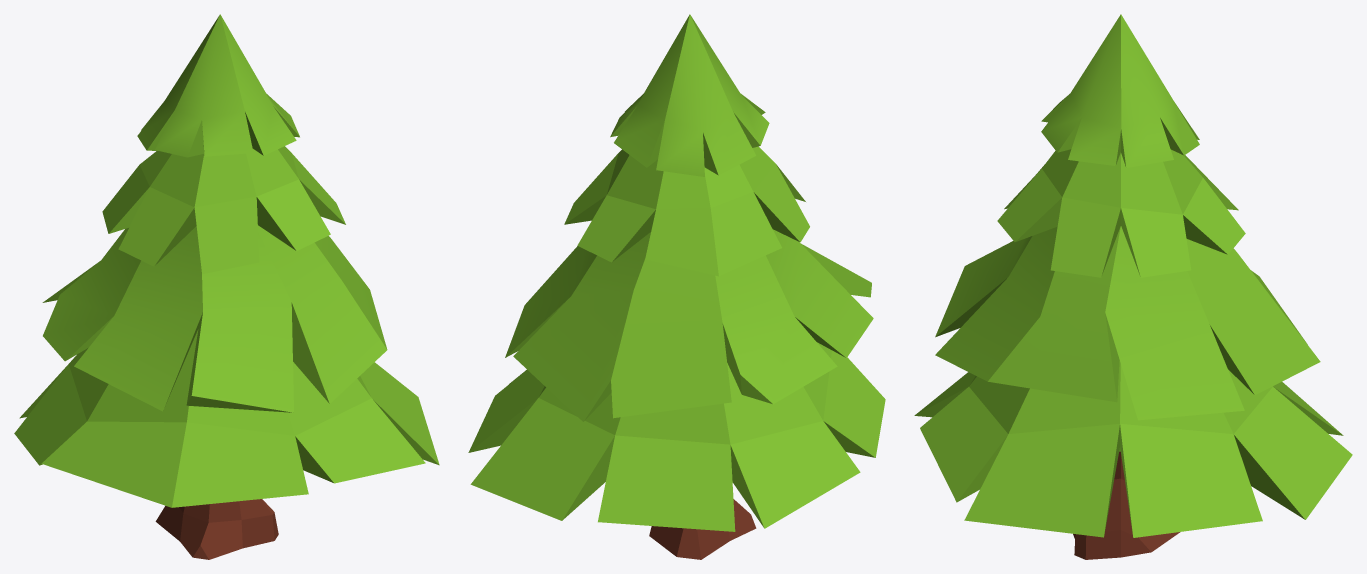
The model's file is maya_export_Tree1_v1.fbx.
The picture shows the model from 3 angles, left to right: view 1: azimuth 30°, elevation 25°; view 2: azimuth 150°, elevation 25°; view 3: azimuth 270°, elevation 25°; orthographic projection.
Visible parts, largest first — view 1: Tree1_v1; view 2: Tree1_v1; view 3: Tree1_v1.
Part boxes in pixels (x1,y1,x2,y2): Tree1_v1: (14,14,439,559); Tree1_v1: (468,14,885,559); Tree1_v1: (914,14,1352,559).
Bounding box in the file's own units: 3.69 × 4.9 × 3.71.
1 material, 1 textured.
